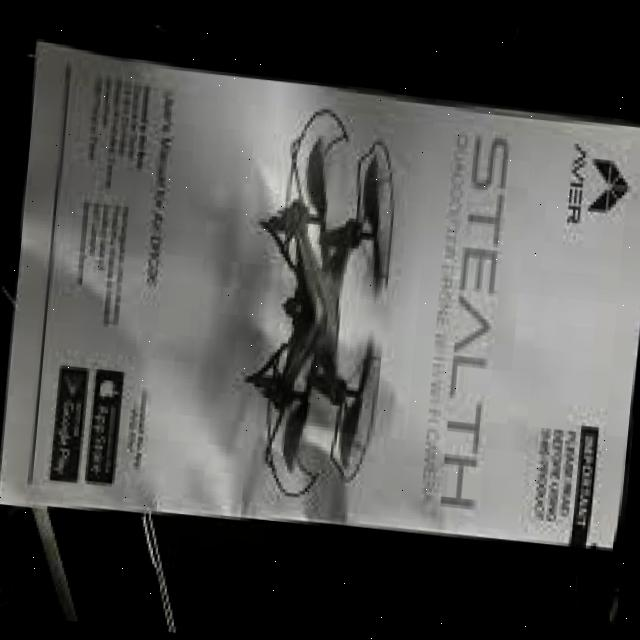drone: (223, 95, 414, 523)
